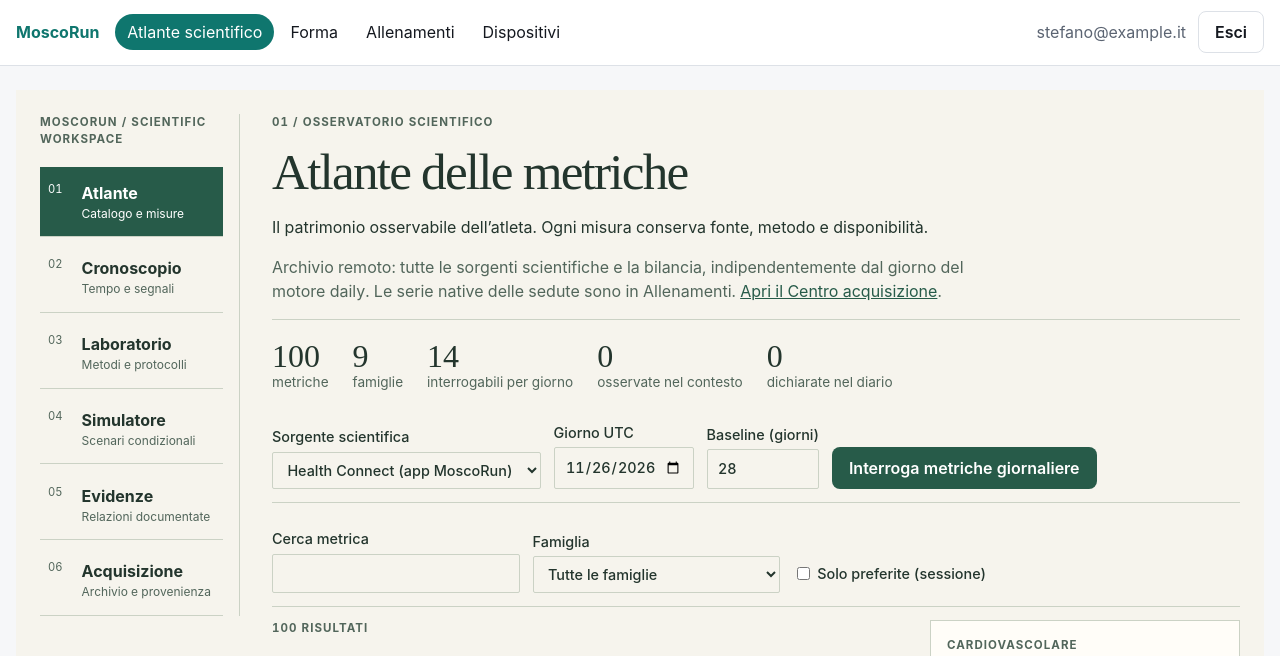
Test: ambiente scientifico › distingue un valore dichiarato dalla sorgente wearable
Type "hunger" into the search field labelled "Cerca metrica" at (396, 574), box [272,554,520,593]
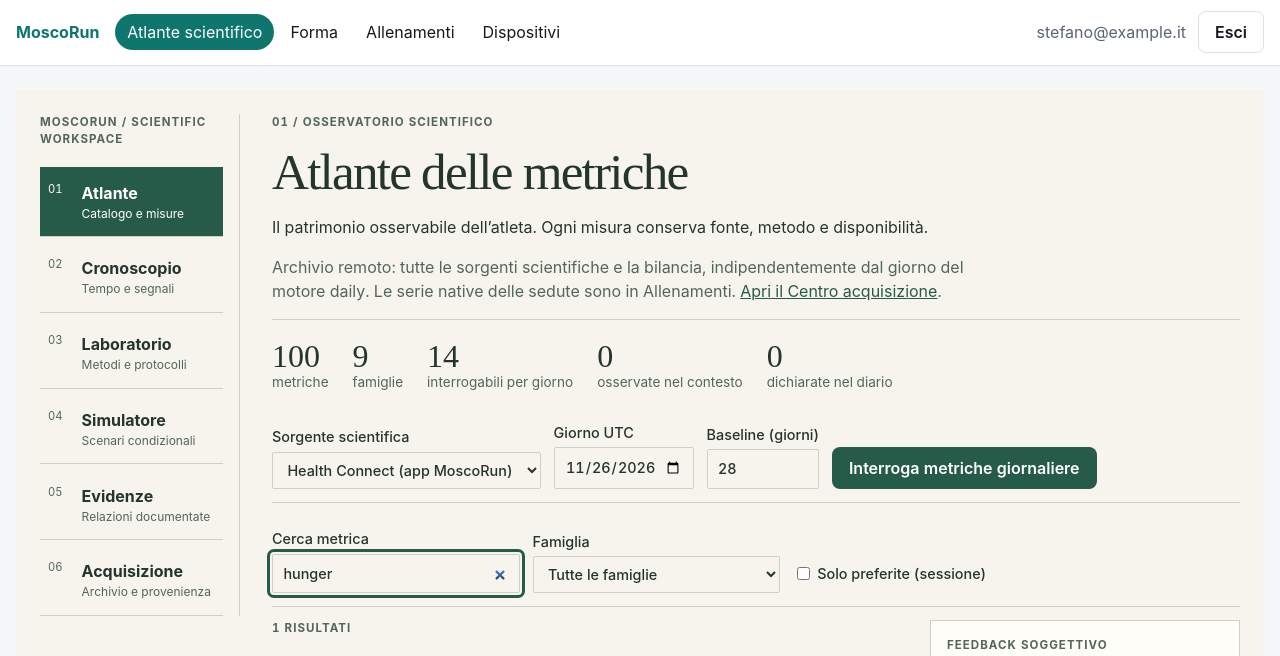
Click the button "Interroga metriche giornaliere" at (964, 468), box [832,447,1097,489]
(page scrolled)
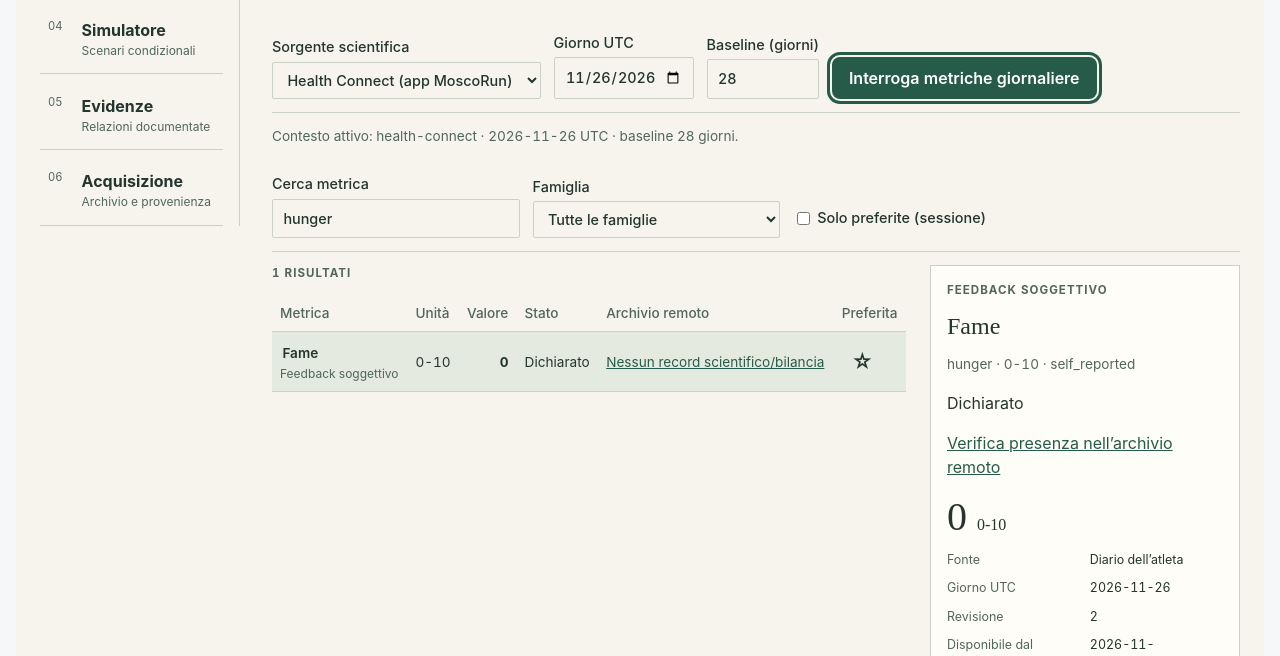
Expected: the text "Dichiarato" is shown, [947,393,1024,413]
Expected: the text "Diario dell’atleta" is shown, [1090,552,1184,567]
Expected: the text "2" is shown, [1090,609,1098,624]
